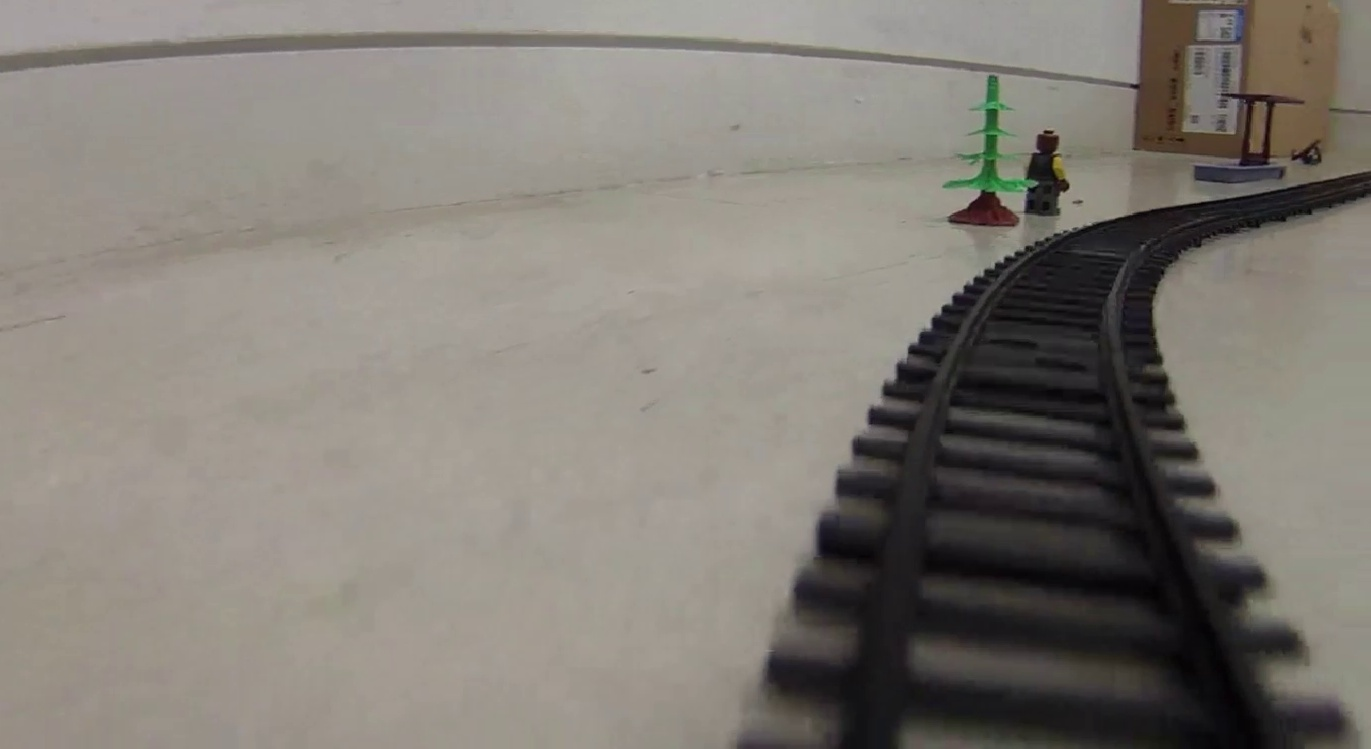people: (1025, 126, 1068, 214)
tree: (945, 72, 1030, 227)
